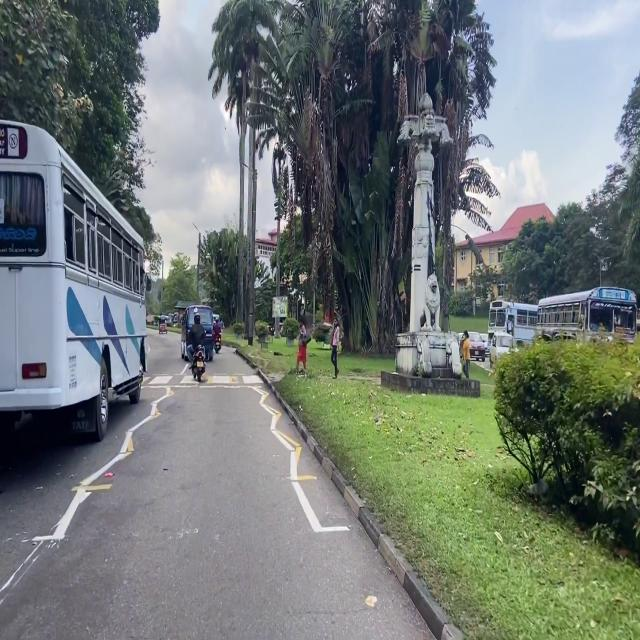bus: (0, 120, 148, 440), (537, 286, 637, 342), (488, 301, 538, 342)
car: (490, 333, 515, 366), (459, 331, 485, 361), (480, 334, 490, 358)
motorcycle: (192, 345, 205, 382), (214, 334, 222, 353)
person: (187, 313, 205, 362), (297, 316, 310, 371), (331, 319, 340, 377), (462, 331, 471, 379), (213, 319, 221, 340)
three wheeler: (159, 315, 167, 335)
van: (181, 306, 214, 361)
